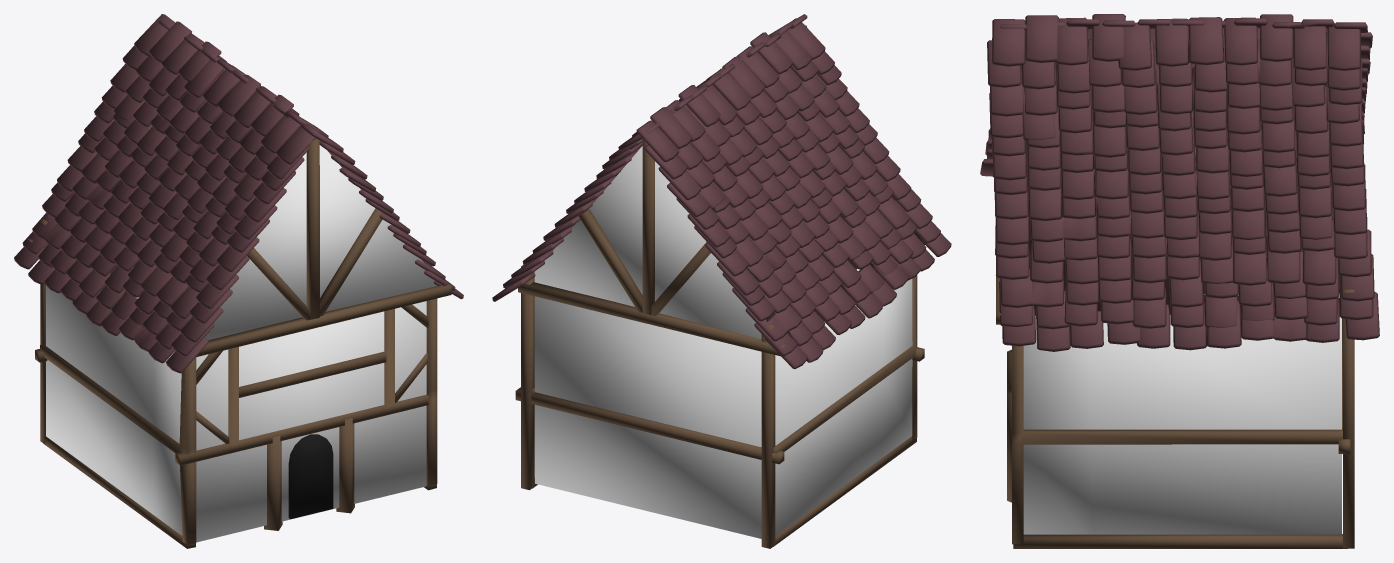
File: Peasant house.glb
The picture shows the model from 3 angles, left to right: view 1: azimuth 30°, elevation 25°; view 2: azimuth 150°, elevation 25°; view 3: azimuth 270°, elevation 25°; orthographic projection. The views are drawn at different scales.
Parts seen in each view (by area): view 1: House; view 2: House; view 3: House.
Part boxes in pixels (<box>): House: <box>14,14,463,548</box>; House: <box>492,14,951,548</box>; House: <box>980,14,1379,548</box>.
Bounding box in the file's own units: 8.87 × 11.13 × 8.71.
